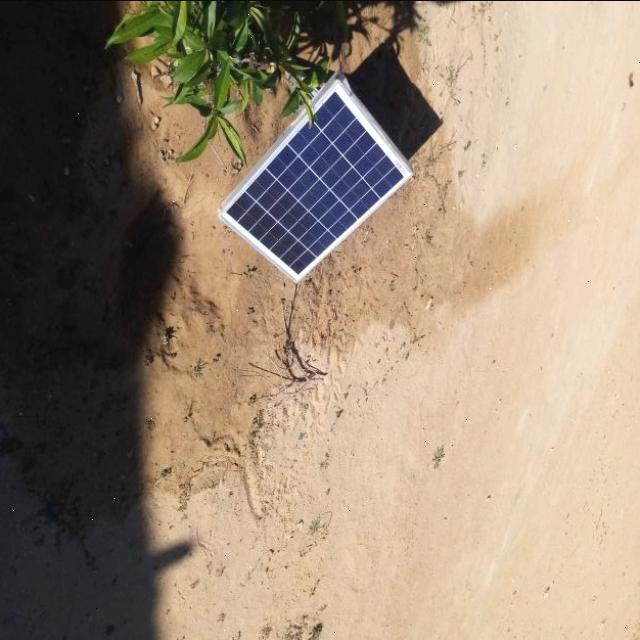Normal Solar Panel: (220, 80, 413, 282)
